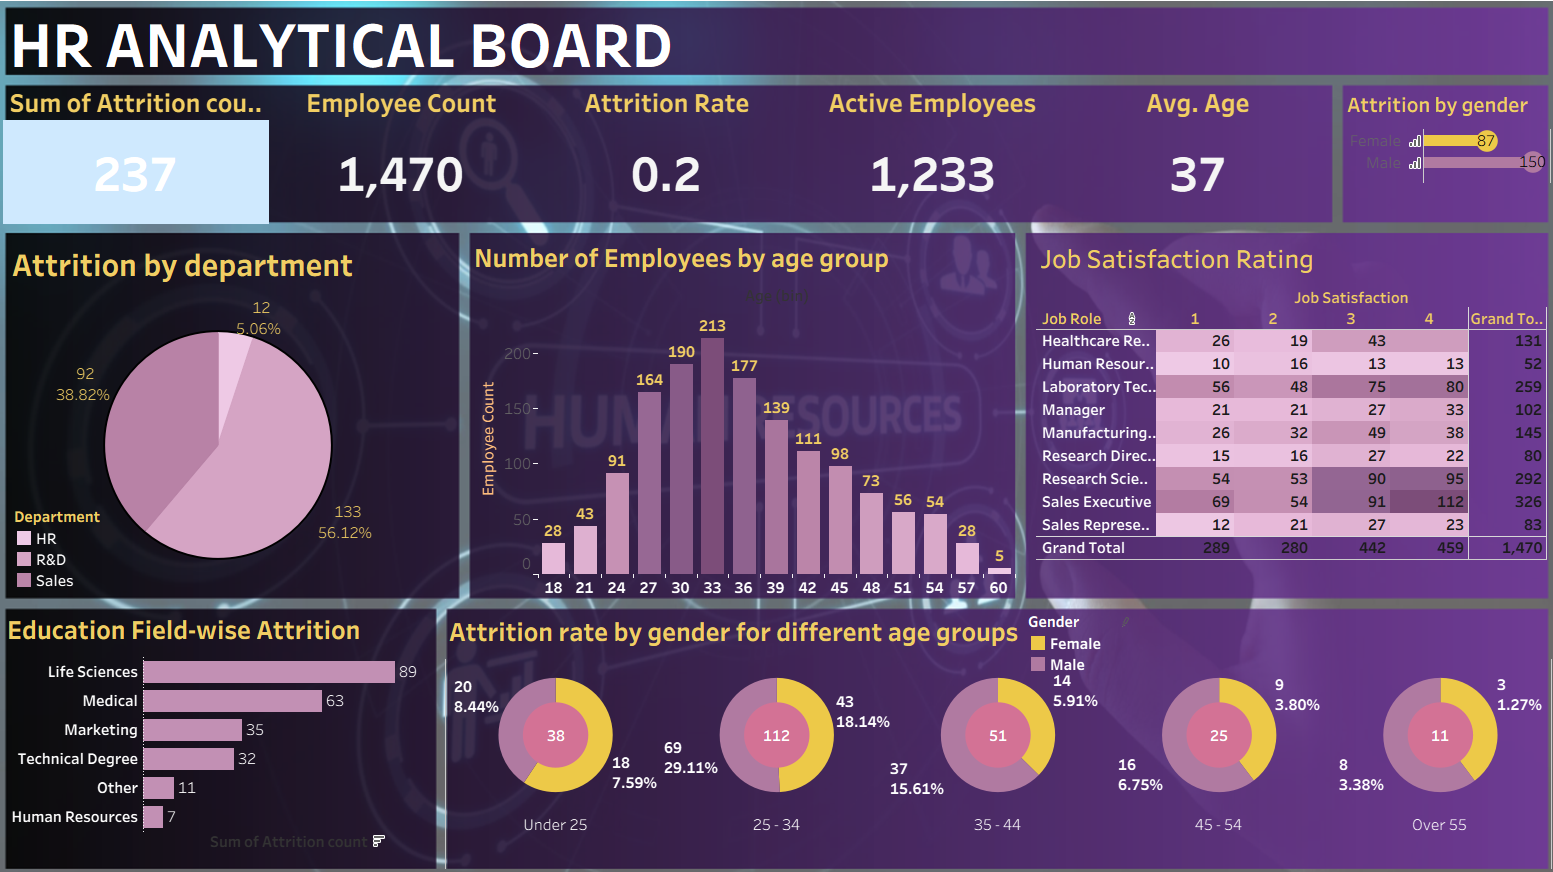

The dashboard page shown, as its layout file describes it:
{"tool":"tableau","page":{"name":"Dashboard 1","canvas":[1580,900],"ordinal":0},"visuals":[{"type":"image","param":"C:/Users/melio/OneDrive/Desktop/labs and lectures/data-science/HR background.ppt","box":[8,8,1564,884]},{"type":"text","box":[19,20,1053,66]},{"type":"worksheet","title":"KPI","mark":"Automatic","box":[16,95,1328,140]},{"type":"worksheet","title":"Attrition by gender","mark":"Automatic","rows":["Gender"],"cols":["Calculation_1602437066666463232","Calculation_1602437066666463232"],"box":[1356,97,215,137]},{"type":"worksheet","title":"Number of Employees by age group","mark":"Automatic","rows":["Employee Count"],"cols":["Age (bin)"],"box":[483,247,546,363]},{"type":"worksheet","title":"Job Satisfaction Rating","mark":"Square","rows":["Job Role"],"cols":["Job Satisfaction"],"box":[1049,248,526,360]},{"type":"worksheet","title":"Attrition by department","mark":"Pie","box":[21,250,448,356]},{"type":"legend","title":"Attrition by department","param":"[federated.199mg7j1uqx8cm136pz3d1rj6wev].[none:Department:nk]","box":[27,517,140,90]},{"type":"worksheet","title":"Education Field-wise Attrition","mark":"Automatic","rows":["Education Field"],"cols":["Calculation_1602437066666463232"],"box":[16,619,432,267]},{"type":"worksheet","title":"Attrition rate by gender for different age groups","mark":"Pie","rows":["Calculation_1212875700359139329","Calculation_1212875700359139329"],"cols":["CF_age band"],"box":[458,621,1107,261]},{"type":"legend","title":"Attrition rate by gender for different age groups","param":"[federated.199mg7j1uqx8cm136pz3d1rj6wev].[none:Gender:nk]","box":[1041,622,108,66]}]}

Visuals, with their boxes in screenshot pixels (x1, y1, x2, y2), scaled from the page's 1580x900 canvas onto the 1553x872 screenshot:
image: bbox=(8, 8, 1545, 864)
text: bbox=(19, 19, 1054, 83)
"KPI" worksheet: bbox=(16, 92, 1321, 228)
"Attrition by gender" worksheet: bbox=(1333, 94, 1544, 227)
"Number of Employees by age group" worksheet: bbox=(475, 239, 1011, 591)
"Job Satisfaction Rating" worksheet (Square marks): bbox=(1031, 240, 1548, 589)
"Attrition by department" worksheet (Pie marks): bbox=(21, 242, 461, 587)
"Attrition by department" legend: bbox=(27, 501, 164, 588)
"Education Field-wise Attrition" worksheet: bbox=(16, 600, 440, 858)
"Attrition rate by gender for different age groups" worksheet (Pie marks): bbox=(450, 602, 1538, 855)
"Attrition rate by gender for different age groups" legend: bbox=(1023, 603, 1129, 667)
